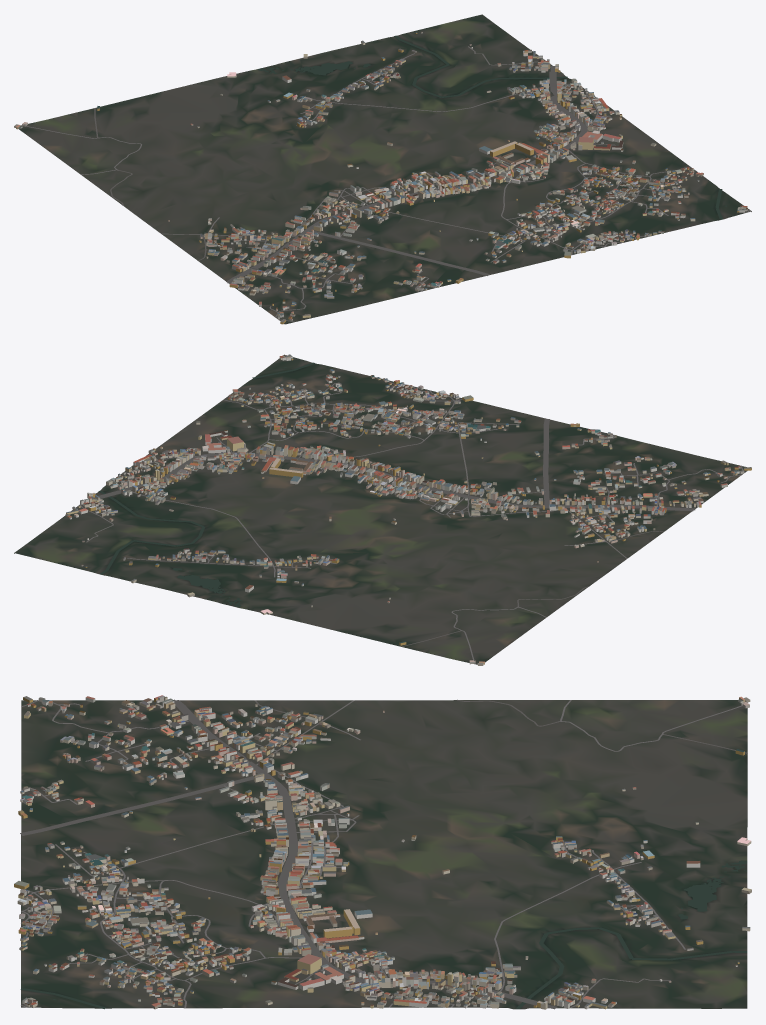
The picture shows the model from 3 angles, top to bottom: view 1: azimuth 30°, elevation 25°; view 2: azimuth 150°, elevation 25°; view 3: azimuth 270°, elevation 25°; orthographic projection. The views are drawn at different scales.
Visible parts, largest first — view 1: ground, buildings, roads, water; view 2: ground, buildings, roads, water; view 3: ground, buildings, roads, water.
Part boxes in pixels (<box>): ground: <box>18,14,751,324</box>; buildings: <box>14,32,747,324</box>; roads: <box>25,46,749,322</box>; water: <box>258,35,726,219</box>; ground: <box>14,354,747,664</box>; buildings: <box>65,354,751,665</box>; roads: <box>79,355,745,661</box>; water: <box>98,362,315,607</box>; ground: <box>21,700,747,1009</box>; buildings: <box>14,695,751,1009</box>; roads: <box>20,699,747,1009</box>; water: <box>20,860,747,1009</box>.
Size of the model in its own units: 1414 by 33.56 by 1424.
